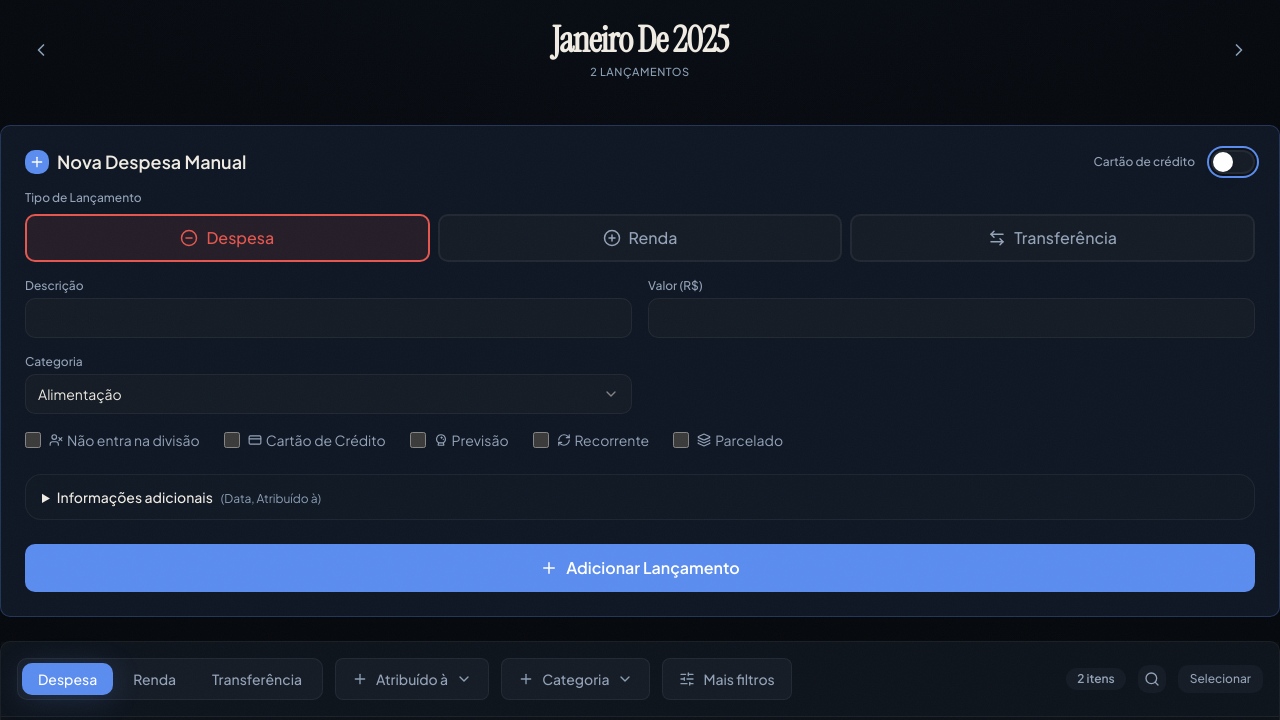
Test: TransactionsView › Filters and search › Aplicar closes the advanced filters popover
This screenshot has width=1280, height=720.
Click the button with aria-label "Filtrar lançamentos". click: (727, 679)
box: [662,658,792,700]
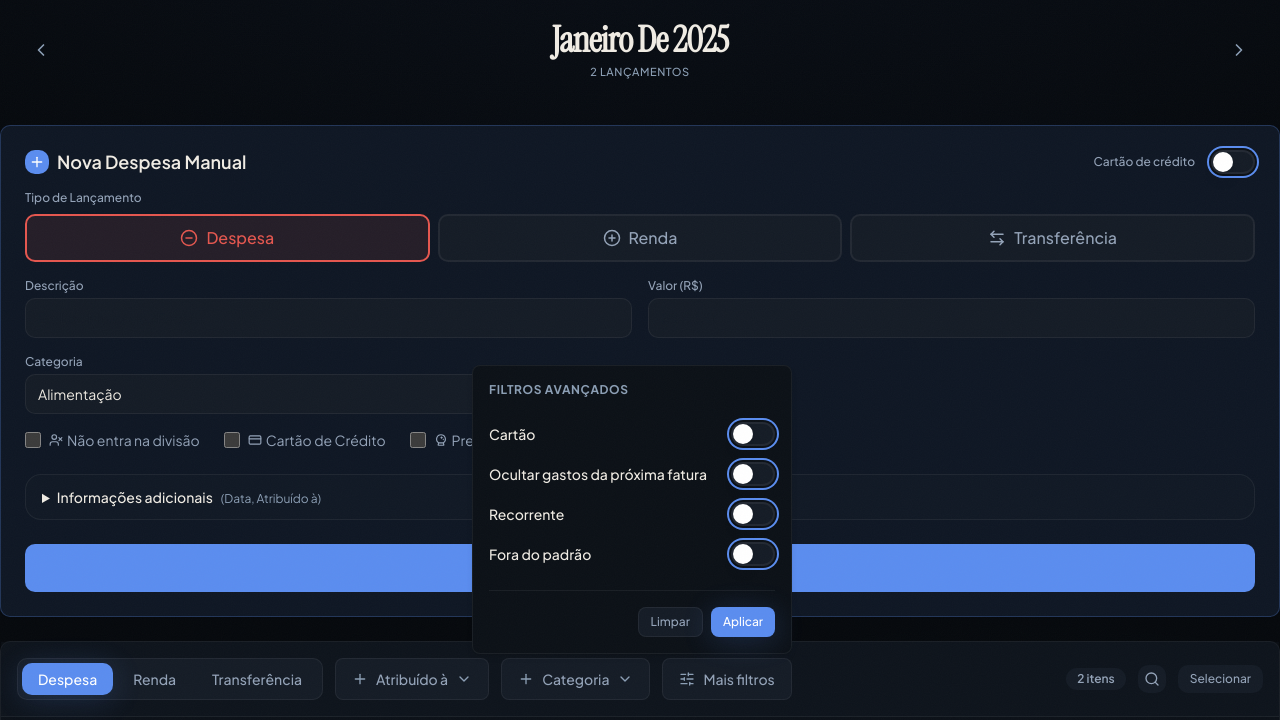
Expected: the heading "FILTROS AVANÇADOS" is shown, [489,382,628,397]
Click the button "Aplicar". click: (743, 622)
box: [711,607,775,637]
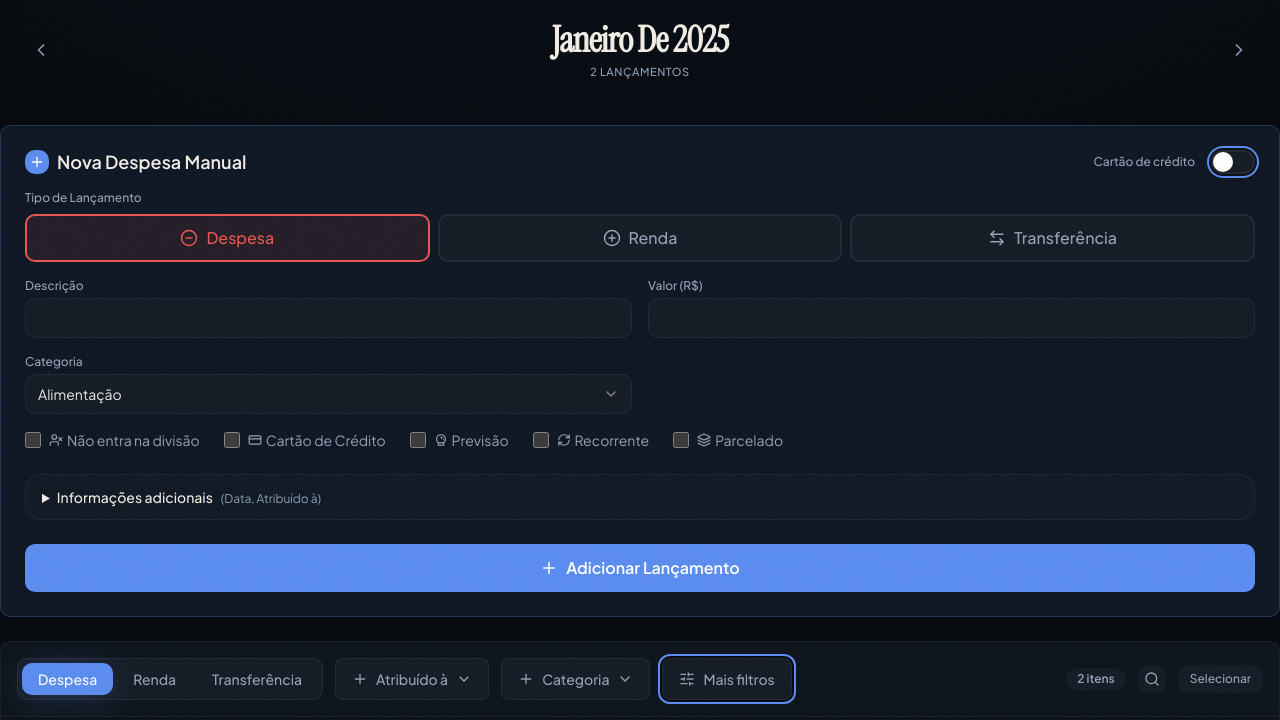
Expected: the heading "FILTROS AVANÇADOS" is gone
